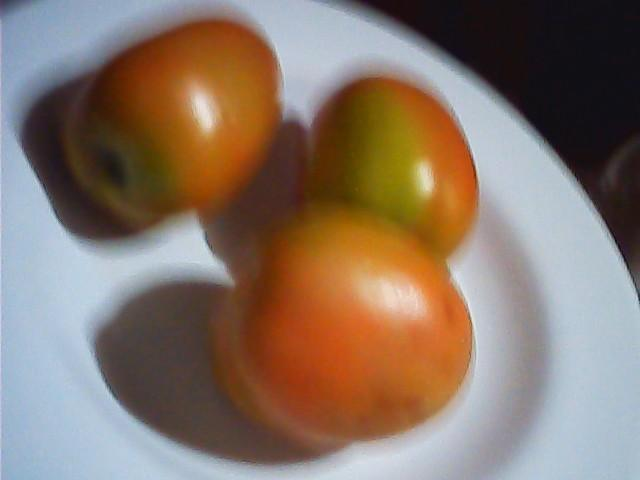verde: (64, 19, 280, 223), (311, 73, 481, 271)
